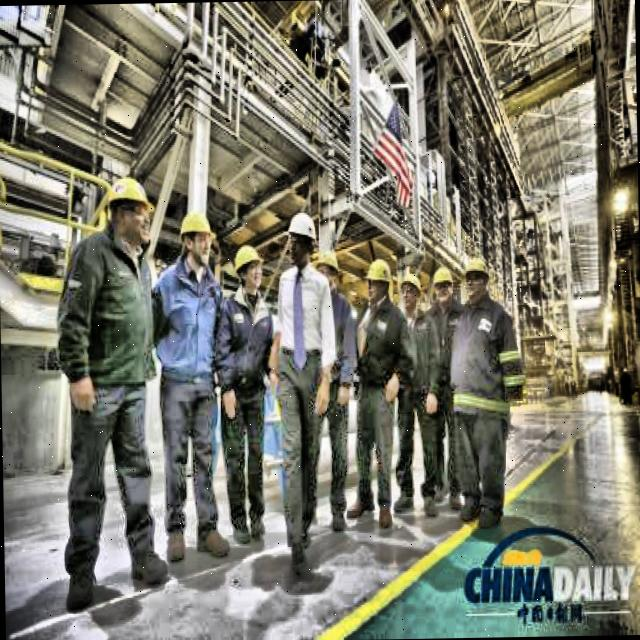helmet: (108, 177, 156, 250), (178, 206, 216, 268), (286, 210, 316, 266), (232, 242, 264, 291), (364, 257, 392, 307), (462, 254, 490, 300), (314, 243, 339, 288), (400, 268, 422, 314), (432, 264, 454, 306)
